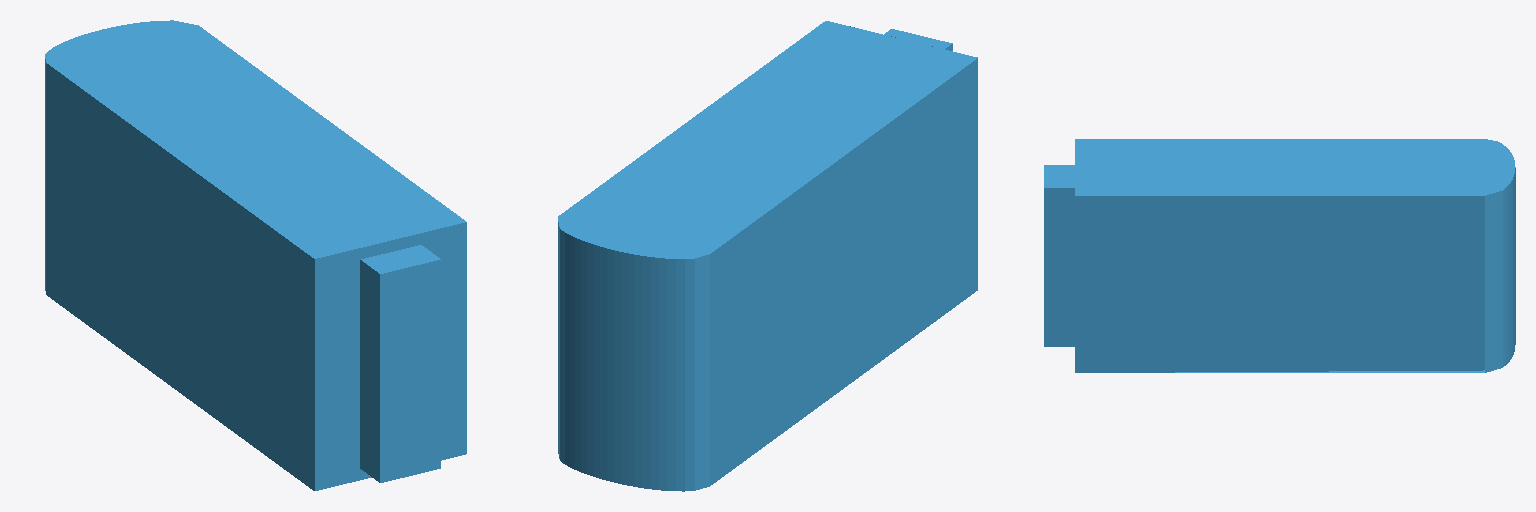
The robot description file, URDF, robot "2v2_50.50_50.50_1.1_73":
<?xml version="1.0" ?>
<robot name="2v2_50.50_50.50_1.1_73">

    <link name="palm">
        <visual>
            <origin rpy="0 0 0" xyz="0 0 0"/>
            <geometry>
                <mesh filename="obj_files/palm.obj" scale="1 1 1"/>
            </geometry>
        </visual>
        <collision>
            <geometry>
                <mesh filename="obj_files/palm_collision.obj" scale="1 1 1"/>
            </geometry>
        </collision>
        <inertial>
            <mass value="1"/>
            <inertia ixx="0.4" ixy="0.0" ixz="0.0" iyy="0.4" iyz="0.0" izz="0.2"/>
        </inertial>
    </link>

    <link name="finger0_segment0">
        <visual>
            <origin rpy="0 0 0" xyz="0 0 0"/>
            <geometry>
                <mesh filename="obj_files/finger0_segment0.obj" scale="1 1 1"/>
            </geometry>
        </visual>
        <collision>
            <geometry>
                <mesh filename="obj_files/finger0_segment0_collision.obj" scale="1 1 1"/>
            </geometry>
        </collision>
        <inertial>
            <mass value="0.1"/>
            <inertia ixx="0.4" ixy="0.0" ixz="0.0" iyy="0.4" iyz="0.0" izz="0.2"/>
        </inertial>
    </link>

    <joint name="finger0_segment0_joint" type="revolute">
        <parent link="palm"/>
        <child link="finger0_segment0"/>
        <origin rpy="0 0 0" xyz="0.03675 0 0.0"/>
        <axis xyz="0 0 1"/>
        <limit effort="1000.0" lower="-3.14" upper="3.14" velocity="0.5"/>
    </joint>

    <link name="finger0_segment1">
        <visual>
            <origin rpy="0 0 0" xyz="0 0 0"/>
            <geometry>
                <mesh filename="obj_files/finger0_segment1.obj" scale="1 1 1"/>
            </geometry>
        </visual>
        <collision>
            <geometry>
                <mesh filename="obj_files/finger0_segment1_collision.obj" scale="1 1 1"/>
            </geometry>
        </collision>
        <inertial>
            <mass value="0.1"/>
            <inertia ixx="0.4" ixy="0.0" ixz="0.0" iyy="0.4" iyz="0.0" izz="0.2"/>
        </inertial>
    </link>

    <joint name="finger0_segment1_joint" type="revolute">
        <parent link="finger0_segment0"/>
        <child link="finger0_segment1"/>
        <origin rpy="0 0 0" xyz="0 0.072 0"/>
        <axis xyz="0 0 1"/>
        <limit effort="1000.0" lower="-3.14" upper="3.14" velocity="0.5"/>
    </joint>

    <link name="finger1_segment0">
        <visual>
            <origin rpy="0 0 0" xyz="0 0 0"/>
            <geometry>
                <mesh filename="obj_files/finger1_segment0.obj" scale="1 1 1"/>
            </geometry>
        </visual>
        <collision>
            <geometry>
                <mesh filename="obj_files/finger1_segment0_collision.obj" scale="1 1 1"/>
            </geometry>
        </collision>
        <inertial>
            <mass value="0.1"/>
            <inertia ixx="0.4" ixy="0.0" ixz="0.0" iyy="0.4" iyz="0.0" izz="0.2"/>
        </inertial>
    </link>

    <joint name="finger1_segment0_joint" type="revolute">
        <parent link="palm"/>
        <child link="finger1_segment0"/>
        <origin rpy="0 0 0" xyz="-0.03675 0 4.500576986866523e-18"/>
        <axis xyz="0 0 1"/>
        <limit effort="1000.0" lower="-3.14" upper="3.14" velocity="0.5"/>
    </joint>

    <link name="finger1_segment1">
        <visual>
            <origin rpy="0 0 0" xyz="0 0 0"/>
            <geometry>
                <mesh filename="obj_files/finger1_segment1.obj" scale="1 1 1"/>
            </geometry>
        </visual>
        <collision>
            <geometry>
                <mesh filename="obj_files/finger1_segment1_collision.obj" scale="1 1 1"/>
            </geometry>
        </collision>
        <inertial>
            <mass value="0.1"/>
            <inertia ixx="0.4" ixy="0.0" ixz="0.0" iyy="0.4" iyz="0.0" izz="0.2"/>
        </inertial>
    </link>

    <joint name="finger1_segment1_joint" type="revolute">
        <parent link="finger1_segment0"/>
        <child link="finger1_segment1"/>
        <origin rpy="0 0 0" xyz="0 0.072 0"/>
        <axis xyz="0 0 1"/>
        <limit effort="1000.0" lower="-3.14" upper="3.14" velocity="0.5"/>
    </joint>

    <link name="finger0_sensor">
        <inertial>
            <mass value="0.000001"/>
            <inertia ixx="0.000004" ixy="0.0" ixz="0.0" iyy="0.000004" iyz="0.0" izz="0.000002"/>
        </inertial>
    </link>

    <joint name="finger0_sensor1_joint" type="fixed">
        <parent link="finger0_segment1"/>
        <child link="finger0_sensor"/>
        <origin rpy="0 0 0" xyz="0 0.072 0"/>
        <axis xyz="0 0 1"/>
        <limit effort="1000.0" lower="-3.14" upper="3.14" velocity="0.5"/>
    </joint>


    <link name="finger1_sensor">
        <inertial>
            <mass value="0.000001"/>
            <inertia ixx="0.000004" ixy="0.0" ixz="0.0" iyy="0.000004" iyz="0.0" izz="0.000002"/>
        </inertial>
    </link>

    <joint name="finger1_sensor2_joint" type="fixed">
        <parent link="finger1_segment1"/>
        <child link="finger1_sensor"/>
        <origin rpy="0 0 0" xyz="0 0.072 0"/>
        <axis xyz="0 0 1"/>
        <limit effort="1000.0" lower="-3.14" upper="3.14" velocity="0.5"/>
    </joint>
</robot>

--- Render facts (derived) ---
3 views of the same robot in one strip: view 1: azimuth 30°, elevation 25°; view 2: azimuth 150°, elevation 25°; view 3: azimuth 270°, elevation 25° (orthographic).
Robot: 2v2_50.50_50.50_1.1_73 — 7 links, 6 joints (4 revolute, 2 fixed); root link palm; default pose: all joints at 0.
Links seen in each view (by area): view 1: finger0_segment0; view 2: finger0_segment0; view 3: finger0_segment0.
Link boxes in pixels (x1=…): finger0_segment0: x1=45, y1=20, x2=466, y2=490; finger0_segment0: x1=558, y1=21, x2=977, y2=491; finger0_segment0: x1=1044, y1=139, x2=1515, y2=372.
Size in the robot's own frame: 0.022 by 0.077 by 0.032 metres.
1 mesh visuals loaded from 5 distinct referenced files (1 OBJ); not drawn: 4 (reference not matched to a file when rendering).